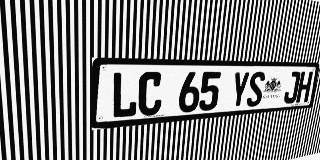5: (199, 72, 221, 111)
6: (178, 72, 202, 113)
C: (137, 72, 163, 116)
H: (296, 72, 313, 103)
J: (283, 72, 301, 104)
L: (111, 72, 138, 119)
S: (246, 72, 266, 107)
Y: (229, 72, 250, 109)
